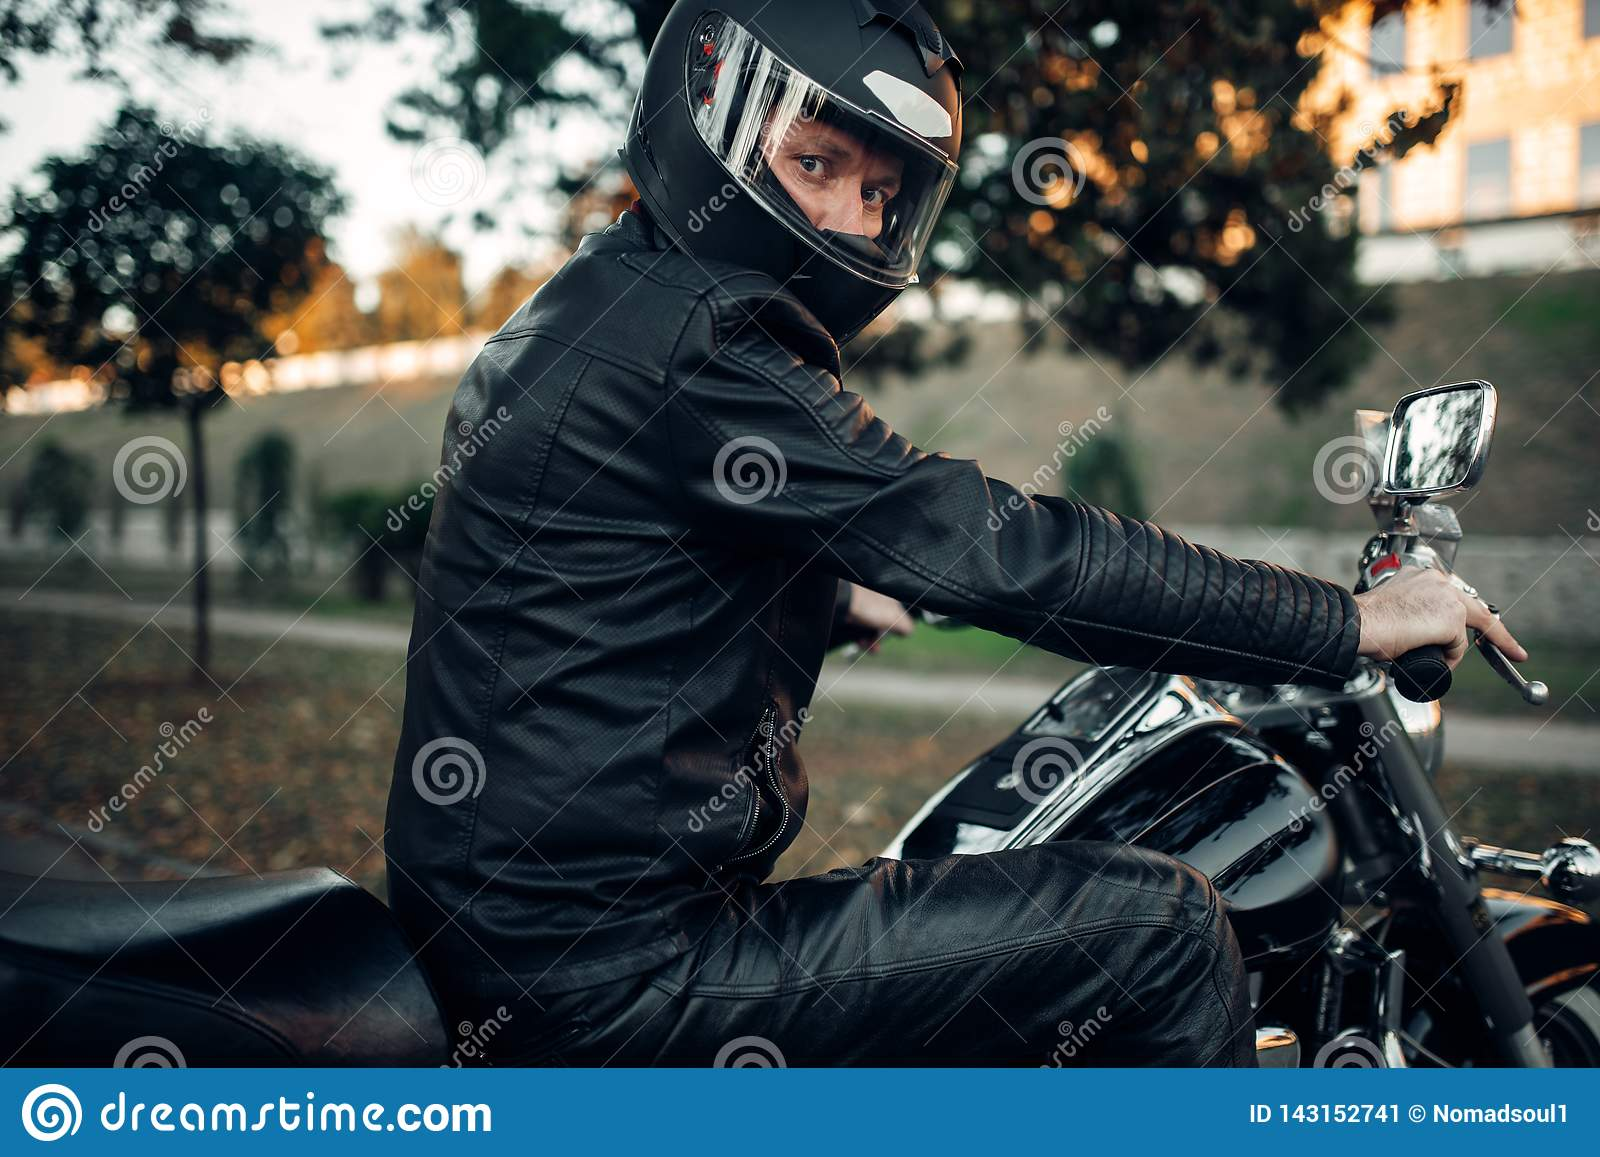helmet: (643, 7, 971, 323)
